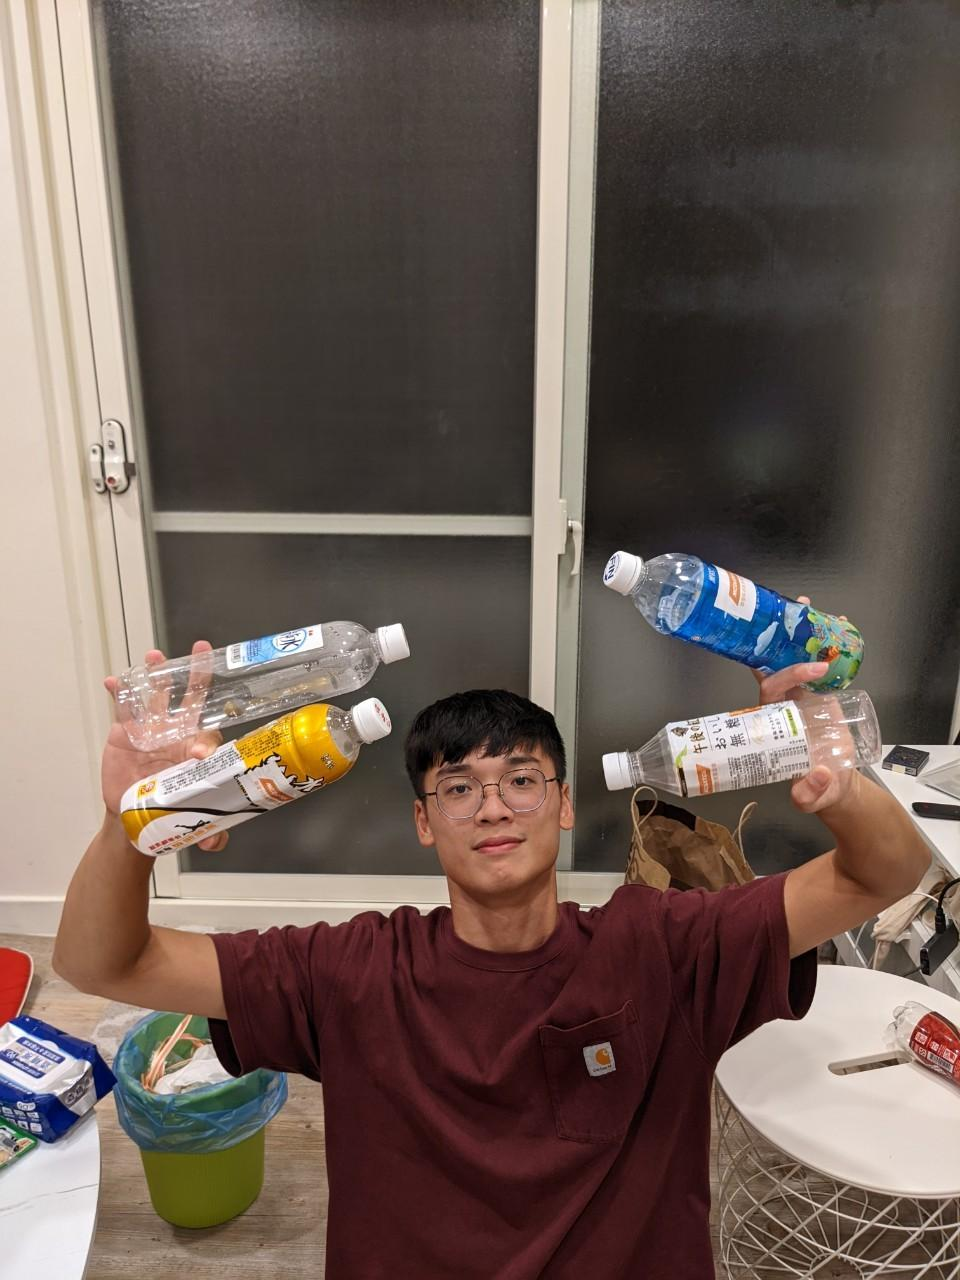BIODEGRADABLE: (113, 697, 384, 870), (593, 532, 887, 682), (103, 610, 425, 734), (610, 683, 885, 817)
